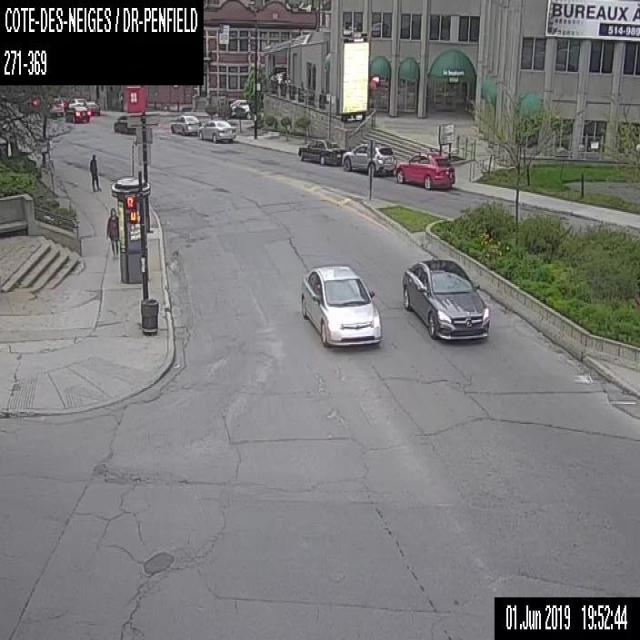pedestrian: (106, 207, 119, 257), (88, 152, 100, 191)
vehicle: (399, 255, 492, 342), (298, 264, 382, 347), (396, 151, 455, 188), (342, 142, 396, 176), (298, 136, 346, 165), (198, 119, 236, 142), (170, 113, 201, 134), (113, 113, 136, 135), (64, 103, 89, 123), (228, 97, 250, 118), (82, 99, 100, 115), (68, 96, 87, 105)
